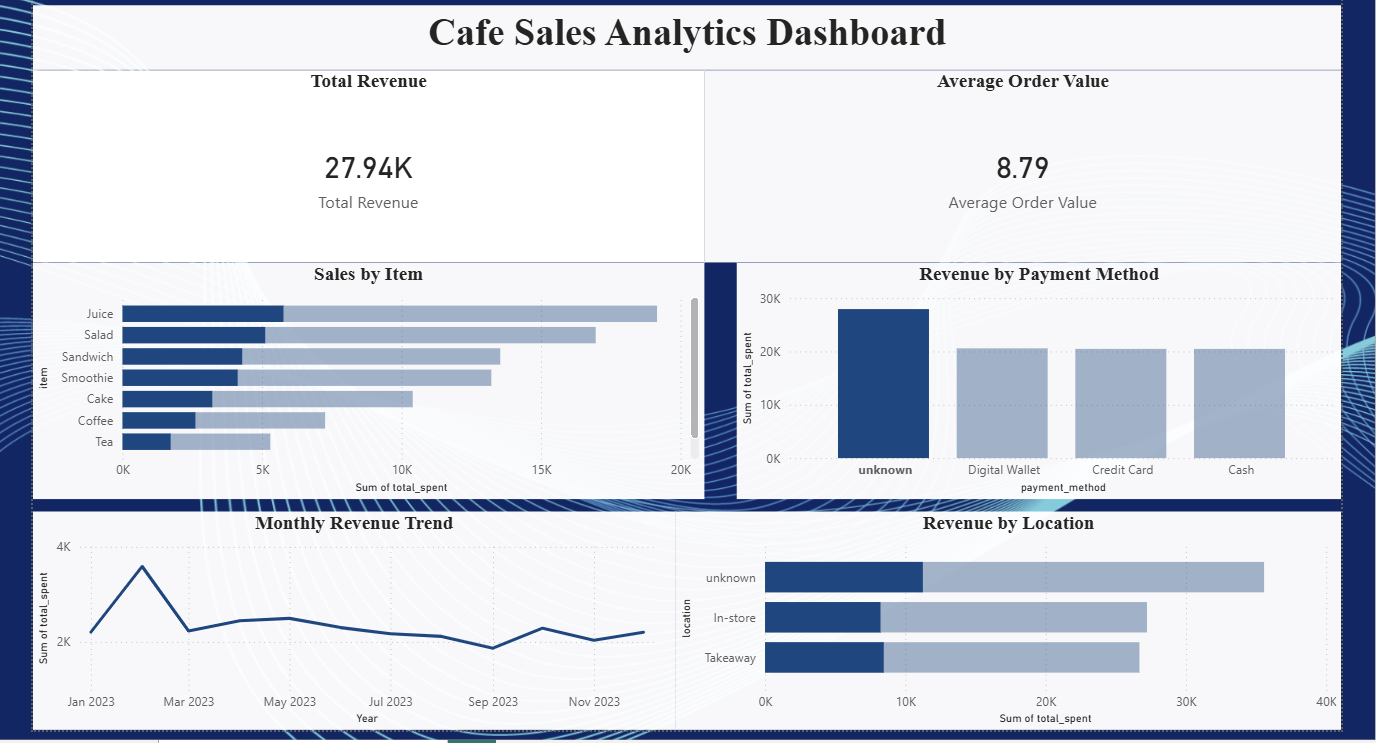

Layout of this report page (visuals, bound fields, positions):
{"tool":"powerbi","page":{"name":"Cafe Sales Performance Dashboard","canvas":[1280,720],"ordinal":0},"visuals":[{"type":"card","title":"Total Revenue","fields":{"Values":["cleaned_cafe_sales.Total Revenue"]},"box":[0,74.6,656.7,188.3],"z":0},{"type":"card","title":"Average Order Value","fields":{"Values":["cleaned_cafe_sales.Average Order Value"]},"box":[656.7,74.6,623.6,188.3],"z":1000},{"type":"clusteredBarChart","title":"Sales by Item","fields":{"Category":["cleaned_cafe_sales.item"],"Y":["Sum(cleaned_cafe_sales.total_spent)"]},"box":[0,262.9,656.7,231.1],"z":2000},{"type":"lineChart","title":"Monthly Revenue Trend","fields":{"Y":["Sum(cleaned_cafe_sales.total_spent)"],"Category":["cleaned_cafe_sales.transaction_date.Variation.Date Hierarchy.Year","cleaned_cafe_sales.transaction_date.Variation.Date Hierarchy.Month"]},"box":[0,506.3,628.5,214],"z":3000},{"type":"clusteredColumnChart","title":"Revenue by Payment Method","fields":{"Category":["cleaned_cafe_sales.payment_method"],"Y":["Sum(cleaned_cafe_sales.total_spent)"]},"box":[688.5,262.9,591.9,231.1],"z":4000},{"type":"clusteredBarChart","title":"Revenue by Location","fields":{"Category":["cleaned_cafe_sales.location"],"Y":["Sum(cleaned_cafe_sales.total_spent)"]},"box":[628.5,506.3,651.8,214],"z":5000},{"type":"textbox","box":[0,11,1280.3,63.6],"z":12000}]}

Visuals, with their boxes in screenshot pixels (x1, y1, x2, y2):
"Total Revenue" card: <bbox>29, 69, 696, 260</bbox>
"Average Order Value" card: <bbox>696, 69, 1329, 260</bbox>
"Sales by Item" clusteredBarChart: <bbox>29, 260, 696, 495</bbox>
"Monthly Revenue Trend" lineChart: <bbox>29, 507, 667, 725</bbox>
"Revenue by Payment Method" clusteredColumnChart: <bbox>728, 260, 1330, 495</bbox>
"Revenue by Location" clusteredBarChart: <bbox>667, 507, 1329, 725</bbox>
textbox: <bbox>29, 4, 1329, 69</bbox>
